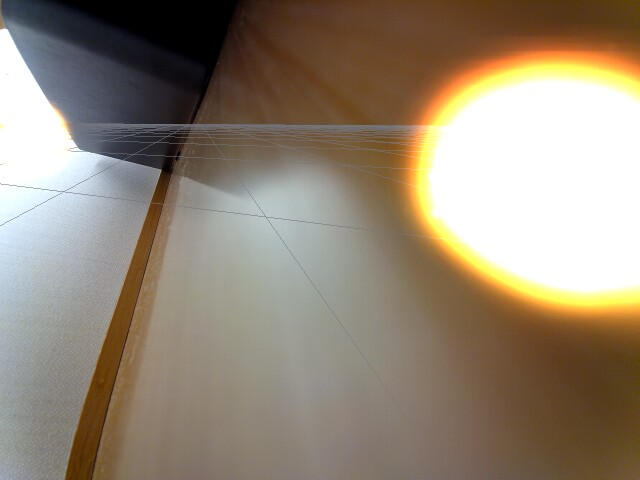firebig: (413, 28, 638, 347)
